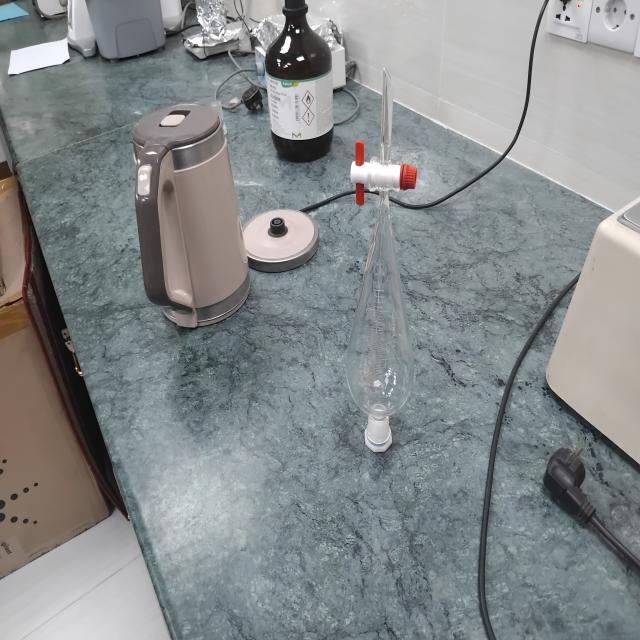Separating_Funnel: (338, 51, 450, 470)
